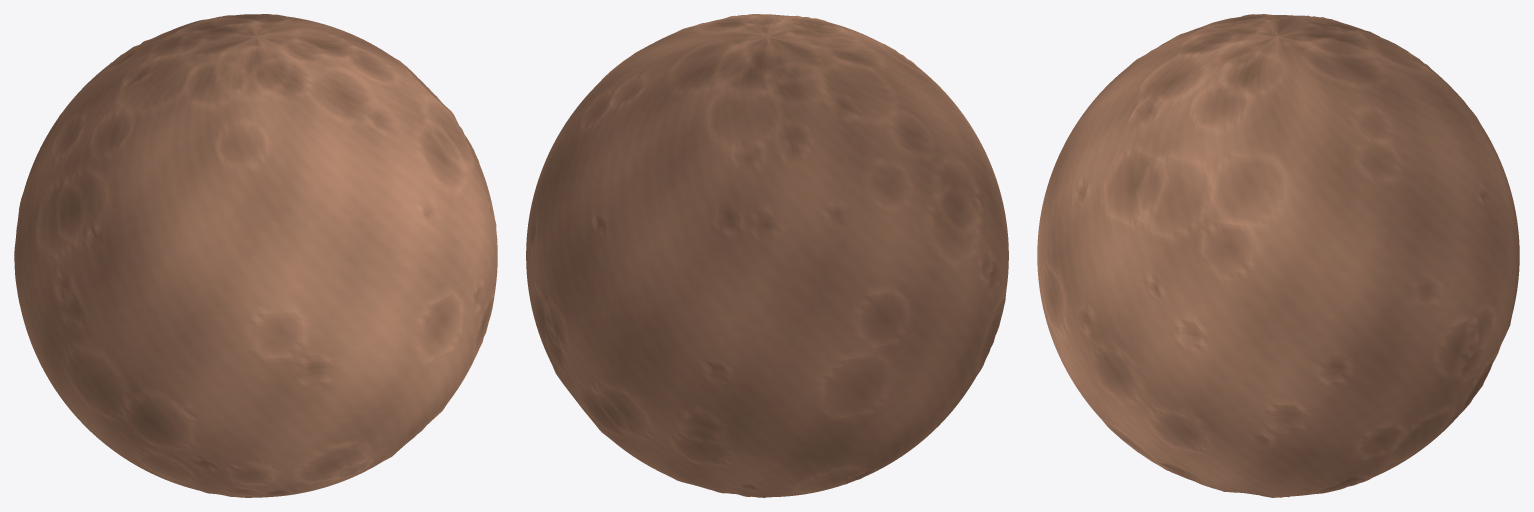
The model's file is mars.glb.
3 views of the same model, side by side, from view 1: azimuth 30°, elevation 25°; view 2: azimuth 150°, elevation 25°; view 3: azimuth 270°, elevation 25° (orthographic).
Size of the model in its own units: 2 by 2.01 by 2.
